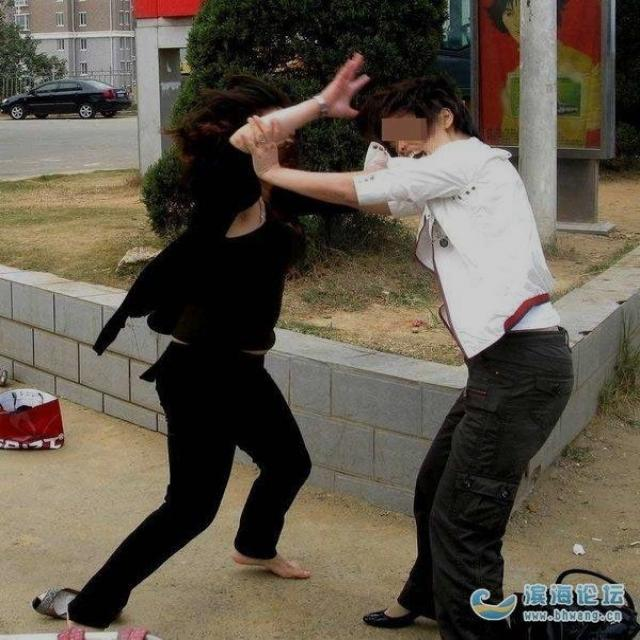fight: (66, 53, 575, 636)
